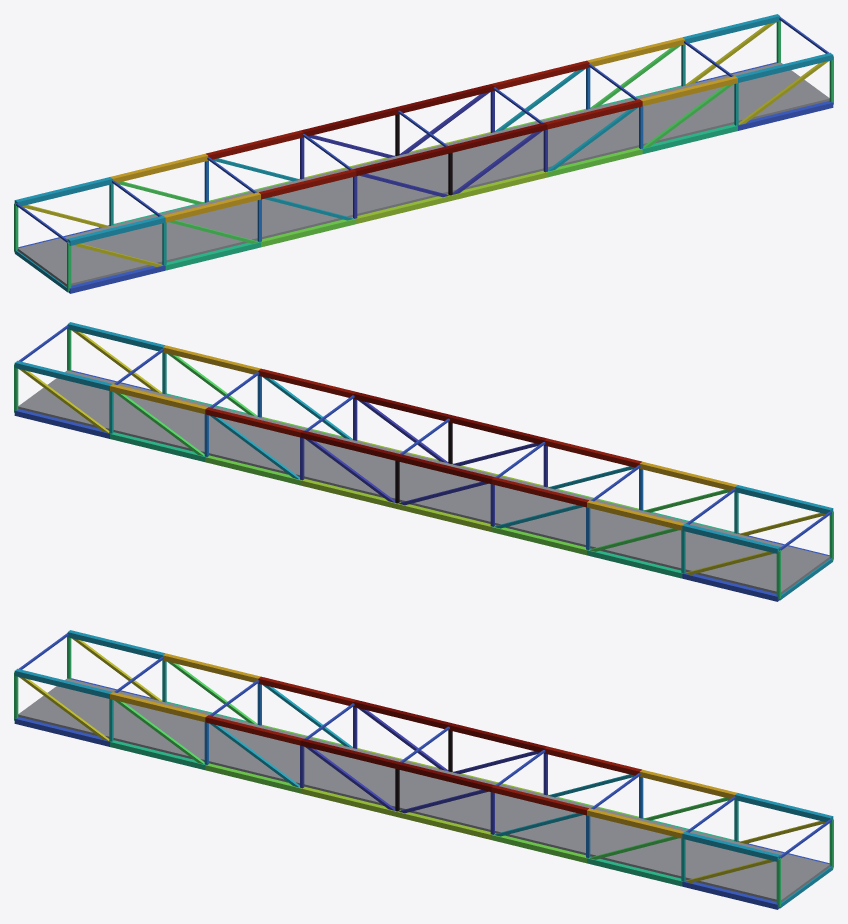
File: 25_1.5_8_HEA160.glb
The picture shows the model from 3 angles, top to bottom: view 1: azimuth 30°, elevation 25°; view 2: azimuth 150°, elevation 25°; view 3: azimuth 330°, elevation 25°; orthographic projection.
Bounding box in the file's own units: 25.09 × 1.66 × 3.16.
